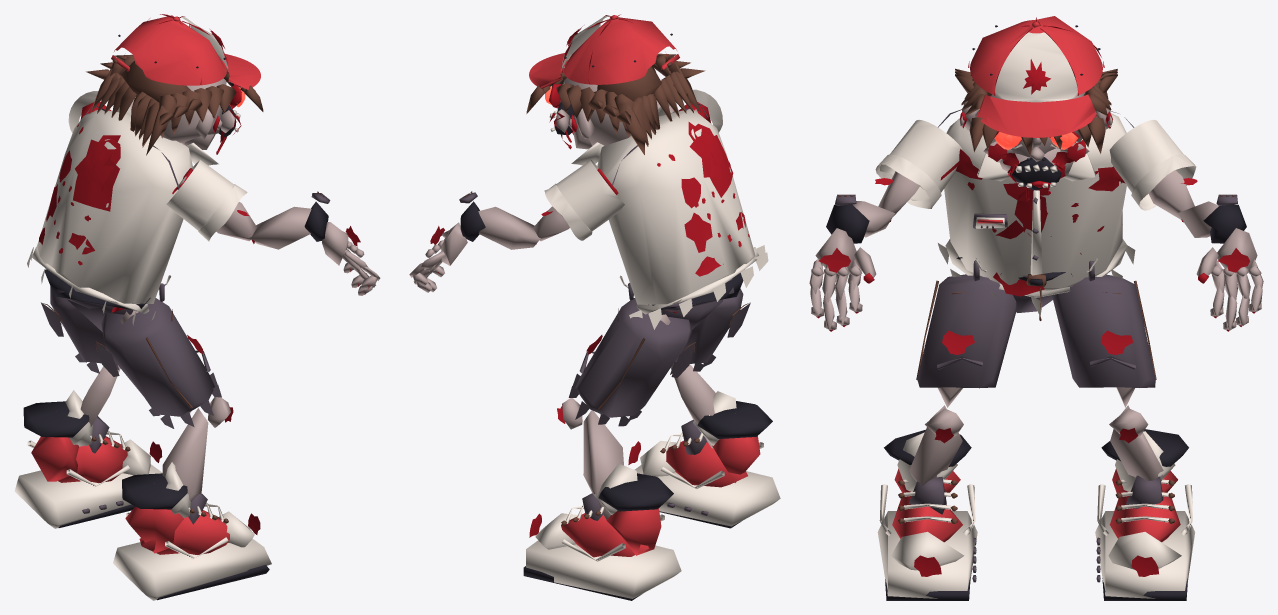
The model's file is inf.baseball-cap.lod1.glb.
The picture shows the model from 3 angles, left to right: view 1: azimuth 30°, elevation 25°; view 2: azimuth 150°, elevation 25°; view 3: azimuth 270°, elevation 25°; orthographic projection. The views are drawn at different scales.
Parts seen in each view (by area): view 1: torso, head, footR, footL, legR, armR, shinR, foreArmR, legL, handR, hip, shinL (+1 smaller); view 2: torso, head, footL, footR, legL, armL, shinL, foreArmL, legR, handL, shinR, hip (+1 smaller); view 3: torso, head, footL, footR, legL, legR, armL, armR, handR, handL, shinR, shinL (+3 smaller).
Boxes of the visible parts, box(x1,y1,x2,y2) form: torso: box(27, 106, 218, 325); head: box(86, 14, 263, 155); footR: box(113, 462, 271, 600); footL: box(14, 390, 162, 528); legR: box(95, 298, 221, 428); armR: box(166, 160, 256, 241); shinR: box(162, 397, 233, 501); foreArmR: box(237, 191, 330, 249); legL: box(41, 286, 118, 373); handR: box(322, 222, 380, 295); hip: box(45, 269, 164, 331); shinL: box(80, 365, 120, 427); torso: box(571, 103, 768, 329); head: box(526, 14, 705, 154); footL: box(523, 463, 681, 600); footR: box(628, 391, 780, 528); legL: box(568, 298, 695, 426); armL: box(533, 159, 624, 241); shinL: box(557, 398, 623, 519); foreArmL: box(459, 191, 552, 249); legR: box(670, 288, 750, 374); handL: box(409, 222, 467, 292); shinR: box(671, 363, 715, 448); hip: box(628, 273, 743, 329); torso: box(938, 108, 1135, 315); head: box(955, 16, 1117, 201); footL: box(1095, 429, 1195, 600); footR: box(877, 430, 977, 600); legL: box(1052, 273, 1156, 407); legR: box(916, 273, 1016, 407); armL: box(1109, 120, 1196, 219); armR: box(875, 120, 962, 216); handR: box(809, 228, 876, 331); handL: box(1196, 228, 1263, 331); shinR: box(909, 405, 963, 485); shinL: box(1109, 405, 1163, 483).
Bounding box in the file's own units: 0.7266 × 1.46 × 1.06.
